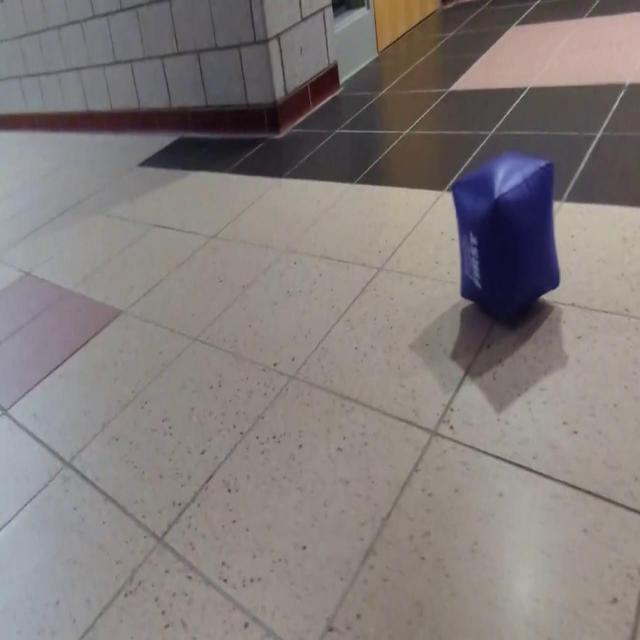frc_cube: (450, 150, 560, 326)
